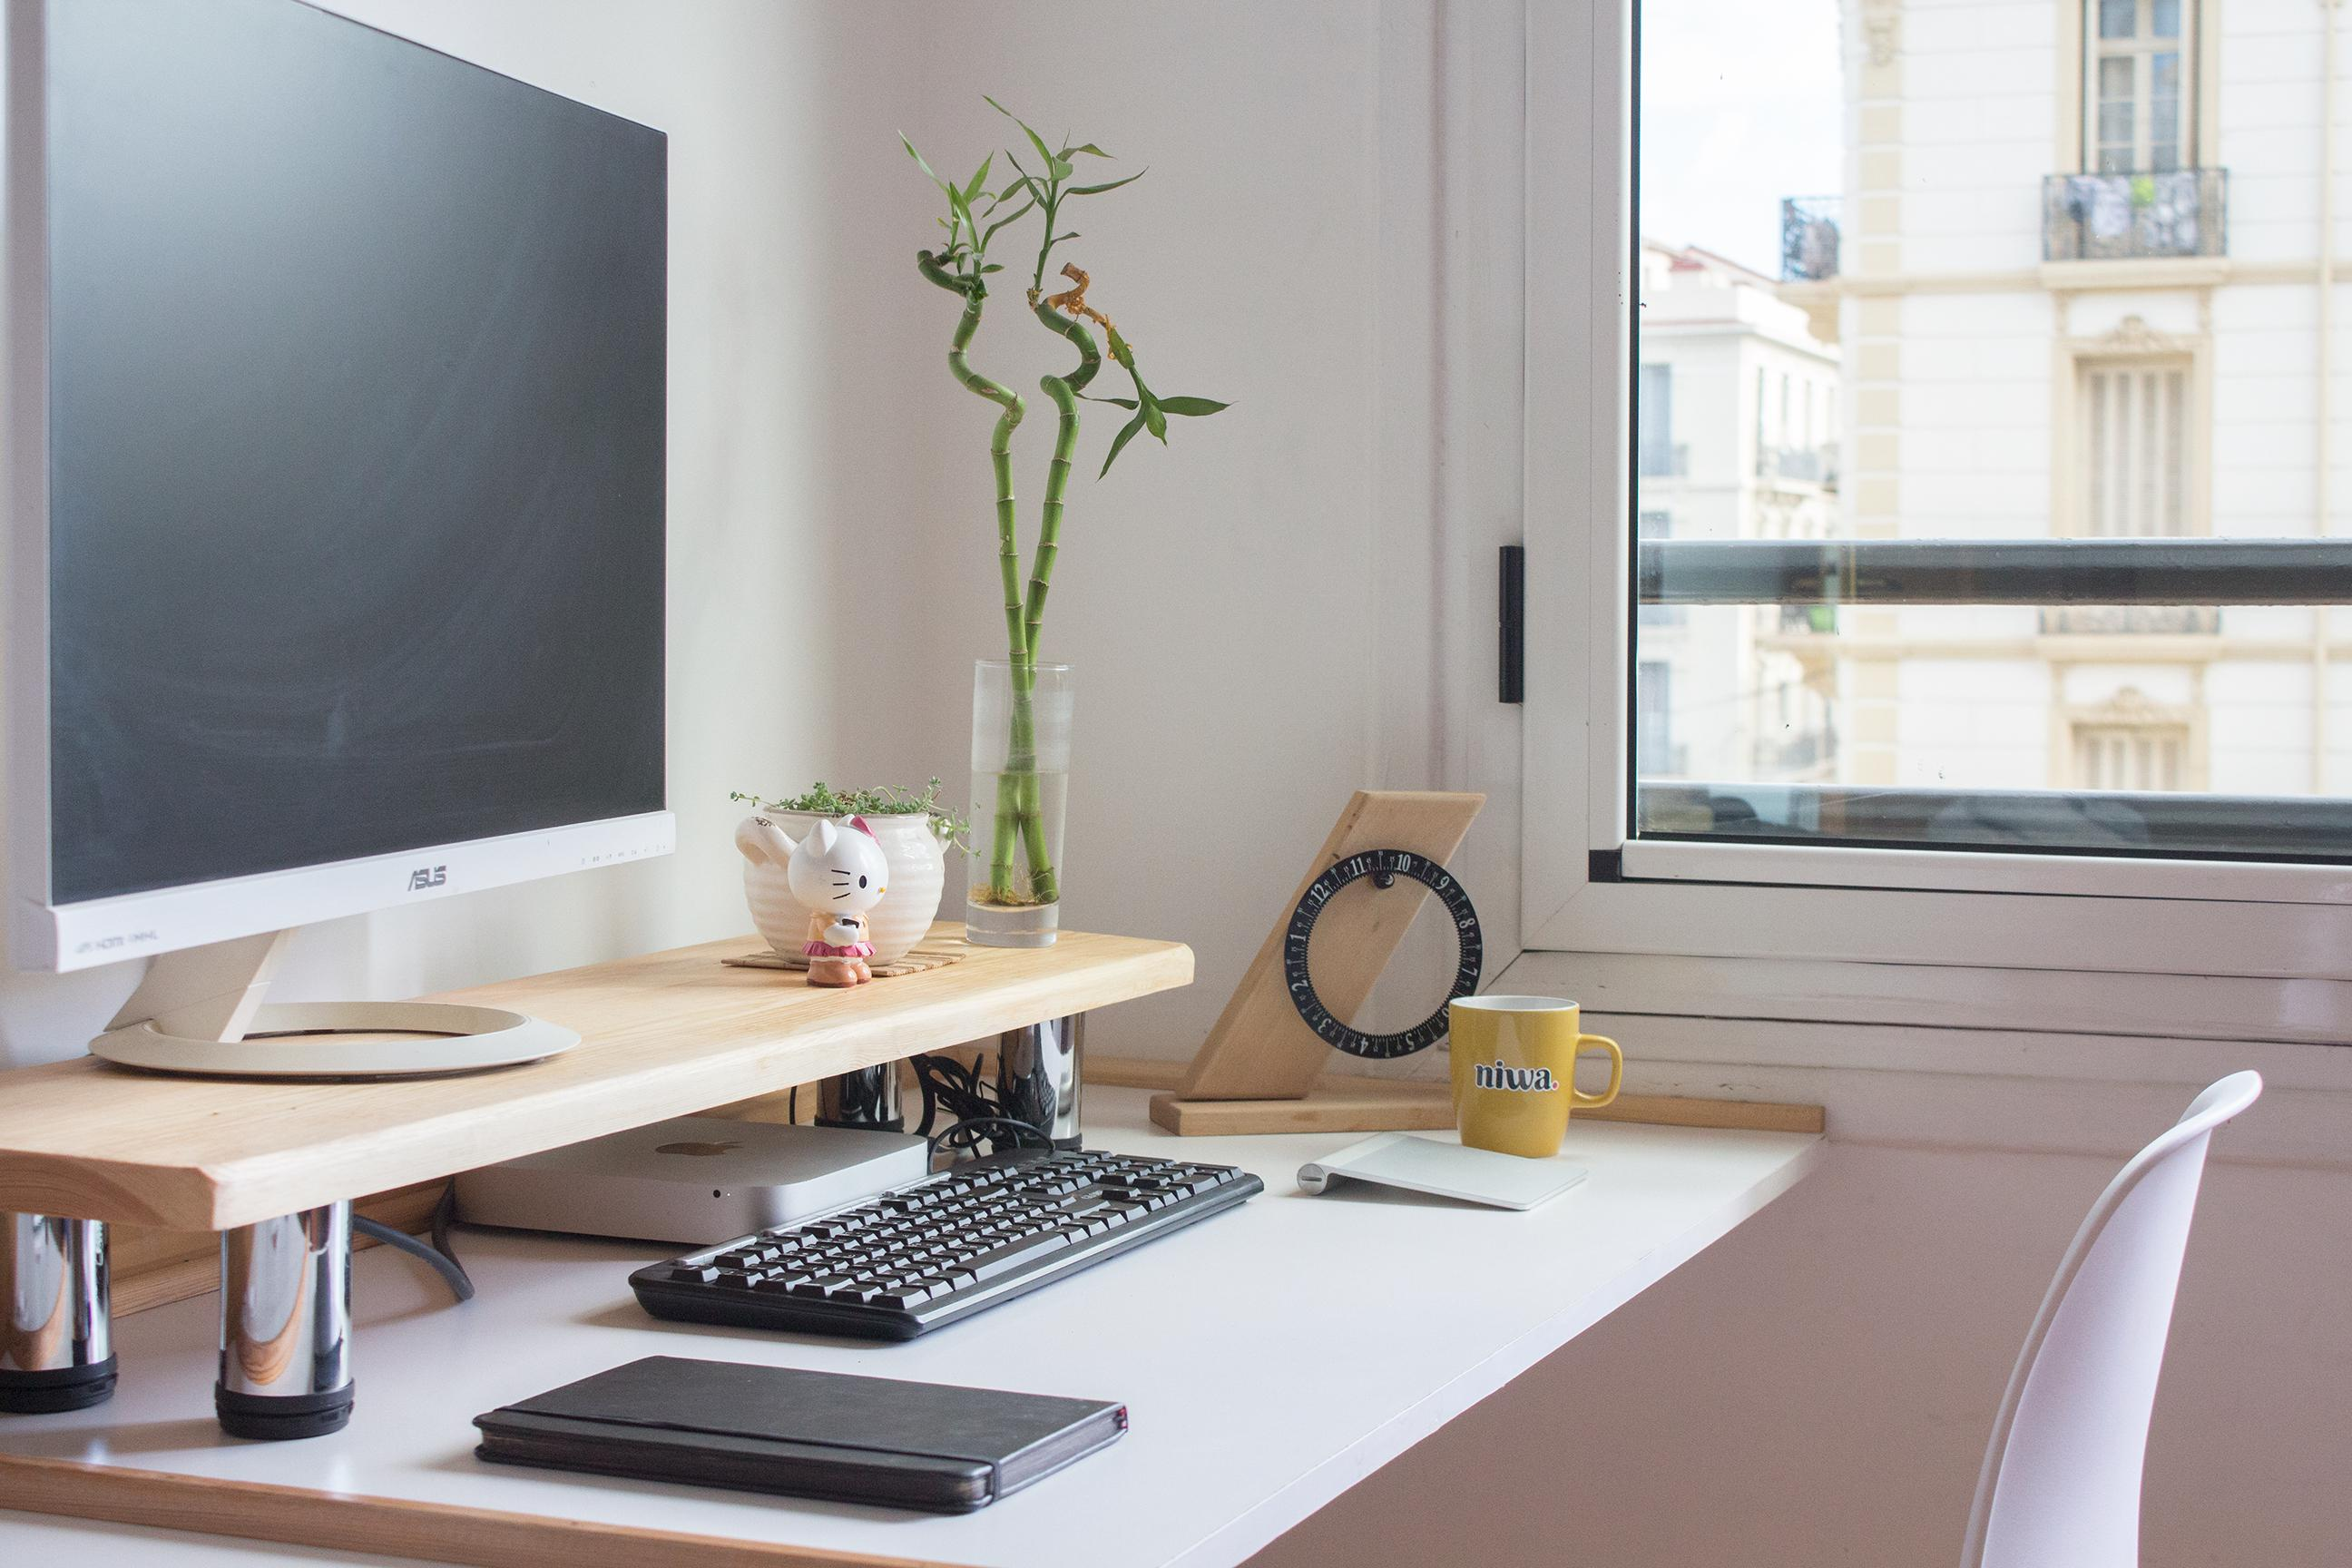Chair (Generic): (1953, 1068, 2264, 1563)
Decoration (Generic): (788, 812, 889, 987)
Decoration (Plant): (889, 89, 1234, 950), (733, 773, 978, 978)
Desk (Generic): (35, 908, 1830, 1566)
Keyboard (Generic): (621, 1148, 1267, 1349)
Monitor (Landscape): (2, 2, 674, 1081)
Mouse (Magic Trackpad): (1293, 1130, 1594, 1215)
Mug: (1442, 992, 1626, 1162)
Notebook: (469, 1356, 1129, 1515)
Router: (445, 1113, 929, 1251)
